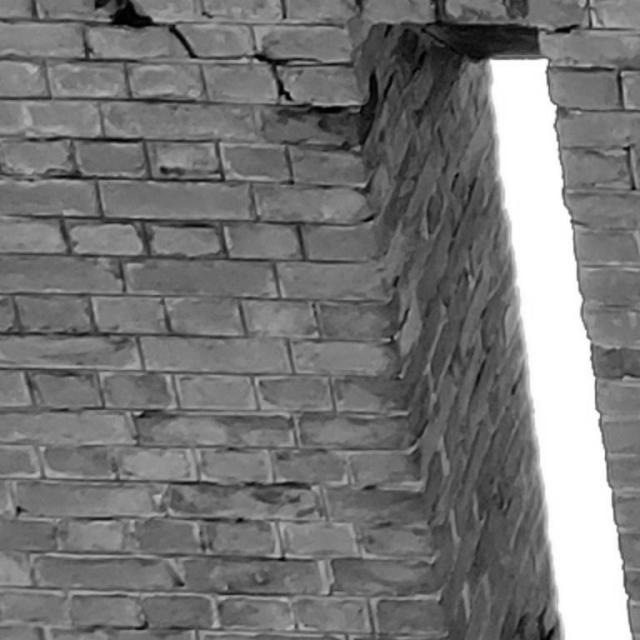crack: (95, 1, 350, 114)
